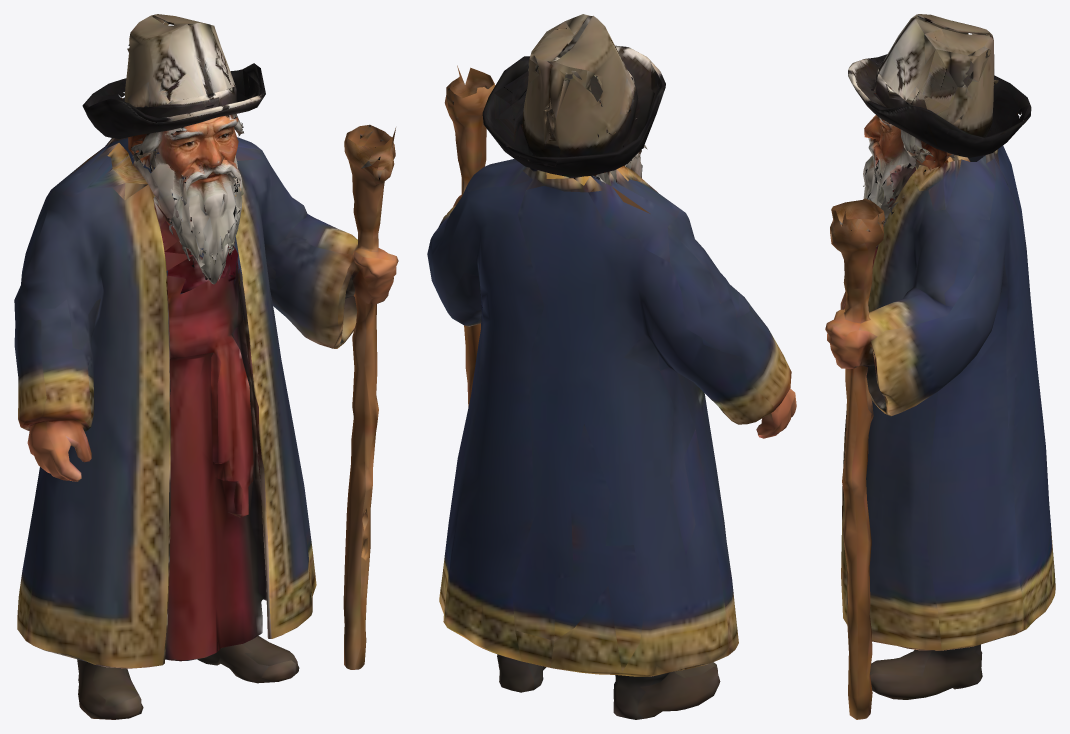
File: elder.gen.glb
3 renders of one model, left to right at view 1: azimuth 30°, elevation 25°; view 2: azimuth 150°, elevation 25°; view 3: azimuth 270°, elevation 25°, orthographic. The views are drawn at different scales.
Visible parts, largest first — view 1: elder.raw; view 2: elder.raw; view 3: elder.raw.
Part boxes in pixels (x1,y1,x2,y2): elder.raw: (14, 14, 398, 719); elder.raw: (427, 14, 796, 719); elder.raw: (825, 14, 1055, 719).
Size of the model in its own units: 1.1 by 1.95 by 0.6359.
1 material, 1 textured.
